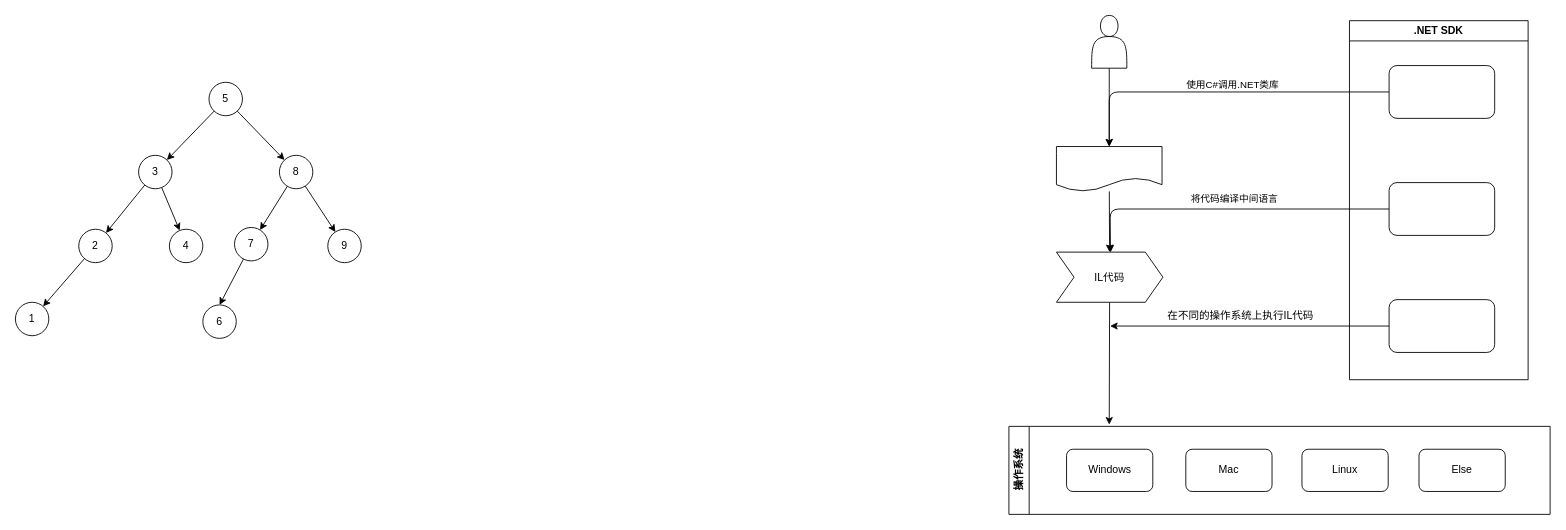
Image size: 1566x530. Some labels were removed from this diagram. The shapes that lost their labels are listed below. From the top down, each one's centre as x and y in pixels, then its label:
(1441,91): 类库
(1109,168): Code
(1441,208): 编译器
(1441,325): 运行时
